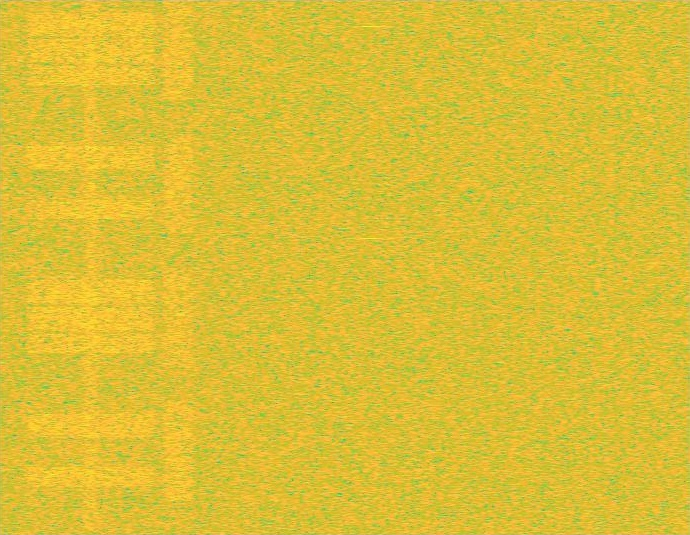5G: (161, 0, 196, 534)
DSSS: (82, 0, 100, 534)
LTE: (22, 0, 160, 534)
Radar: (364, 0, 378, 534)
